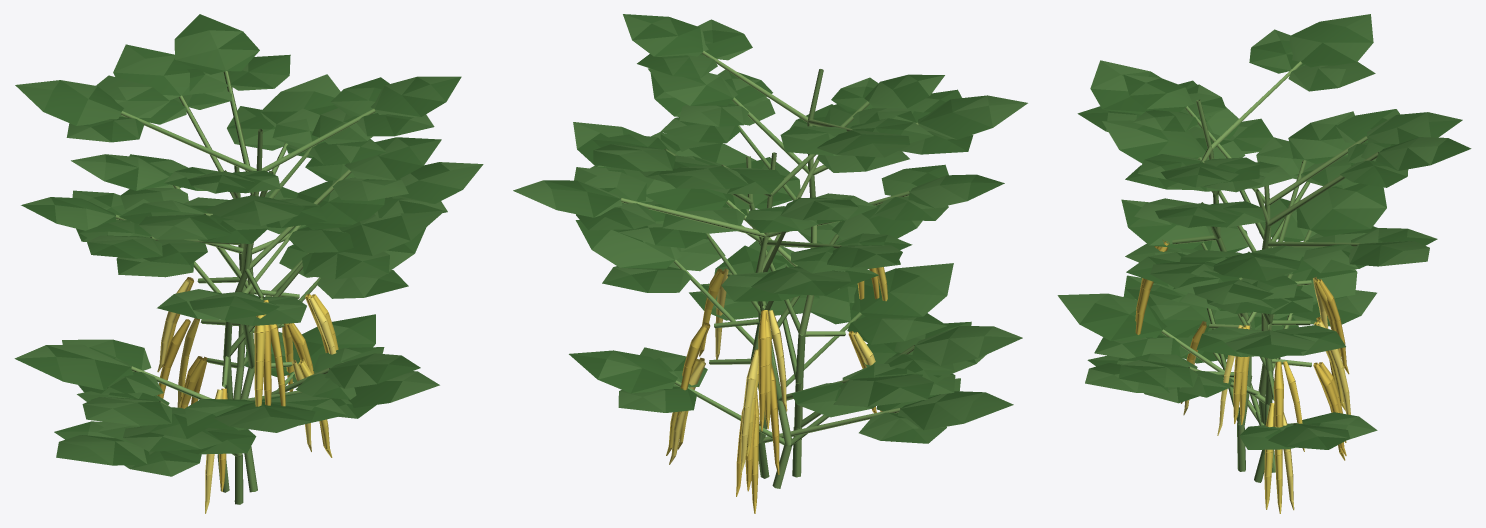
File: haricot_beurre_mur.glb
3 views of the same model, side by side, from view 1: azimuth 30°, elevation 25°; view 2: azimuth 150°, elevation 25°; view 3: azimuth 270°, elevation 25° (orthographic). The views are drawn at different scales.
Parts seen in each view (by area): view 1: Haricot_Feuilles, Haricot_Tiges, Haricot_Gousses; view 2: Haricot_Feuilles, Haricot_Tiges, Haricot_Gousses; view 3: Haricot_Feuilles, Haricot_Tiges, Haricot_Gousses.
Part boxes in pixels (x1,y1,x2,y2): Haricot_Feuilles: [14, 14, 483, 476]; Haricot_Tiges: [115, 71, 386, 504]; Haricot_Gousses: [157, 277, 338, 513]; Haricot_Feuilles: [513, 14, 1027, 443]; Haricot_Tiges: [620, 51, 918, 488]; Haricot_Gousses: [666, 267, 891, 513]; Haricot_Feuilles: [1057, 14, 1471, 449]; Haricot_Tiges: [1161, 61, 1378, 482]; Haricot_Gousses: [1135, 240, 1350, 513].
Size of the model in its own units: 0.4983 by 0.446 by 0.4347.
